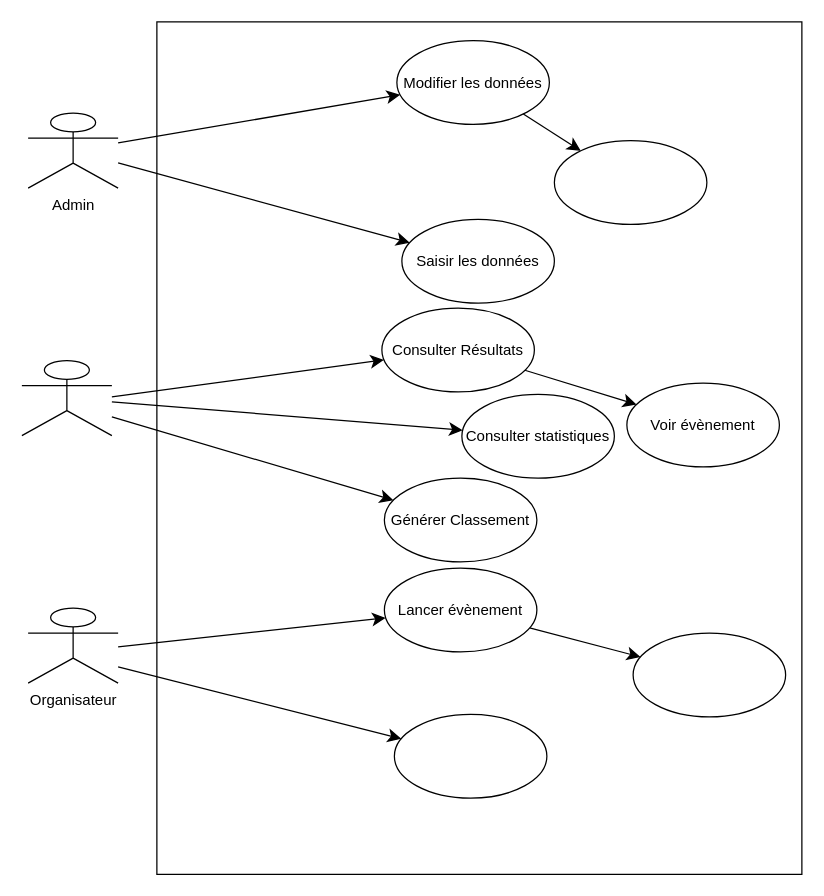
This 824x896 diagram has some shape labels left out. The centre of each missing label's shape, as x and y in pixels:
Commencer évnement: point (709, 674)
Enregistrer Résultats: point (470, 755)
Journaliste: point (66, 397)
Mettre à jour les détails évenement: point (630, 181)
